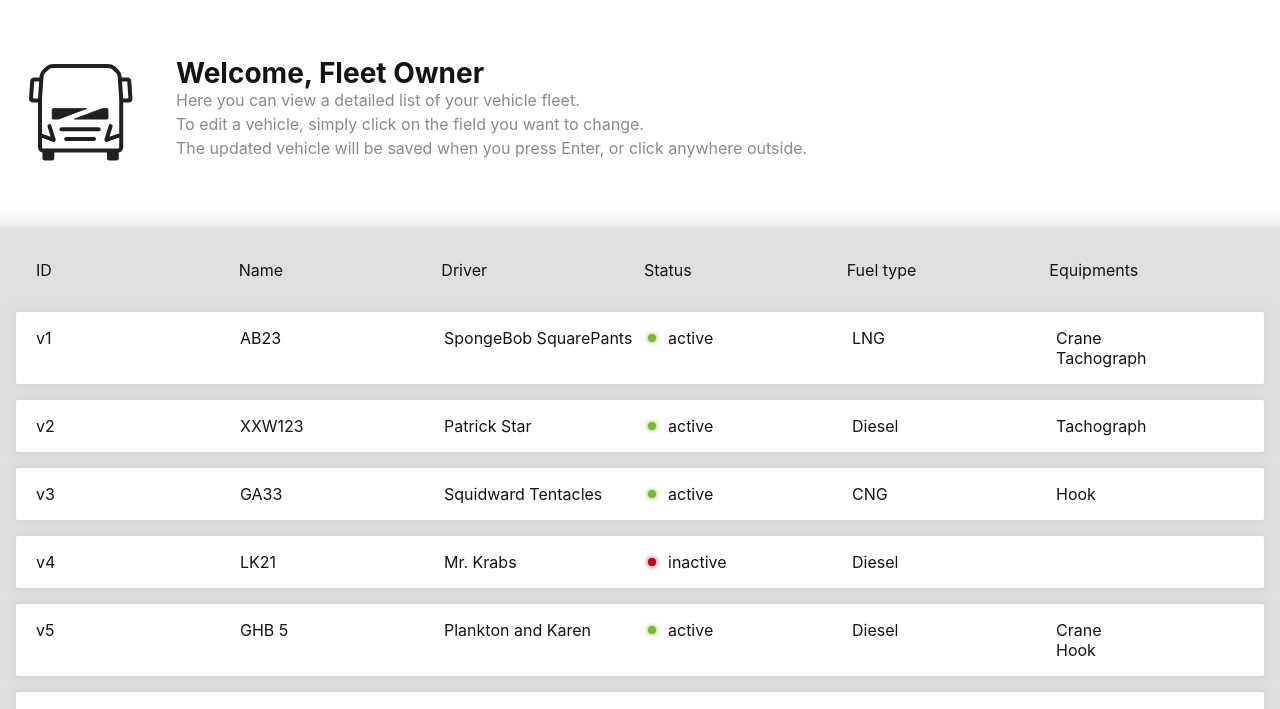
Scenario: Page interactivity works as expected › saves the input value on pressing enter
Click the text "AB23". click: (261, 338)
box: [240,328,281,348]
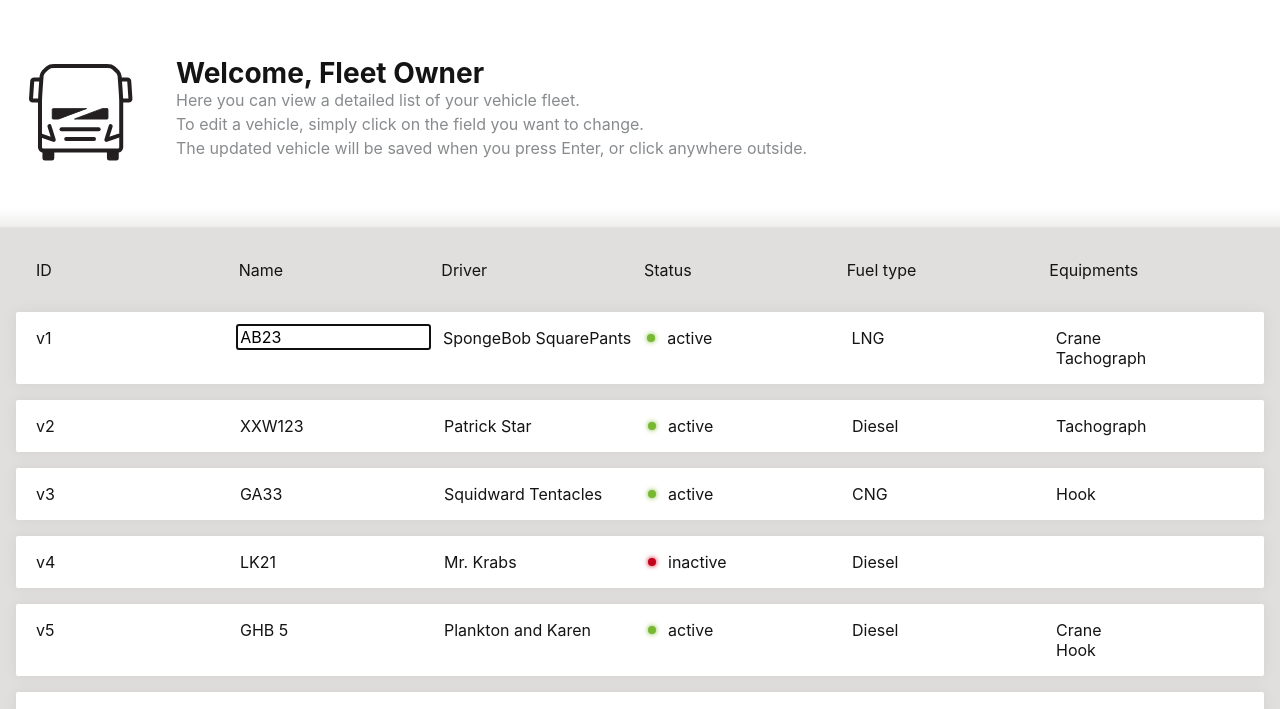
Result: the field with test id "VehicleTableCell-input" holds "AB23"
Replace the text in the field with test id "VehicleTableCell-input" with "YYY333". click: (334, 337)
box: [236,324,431,350]
Then press Enter
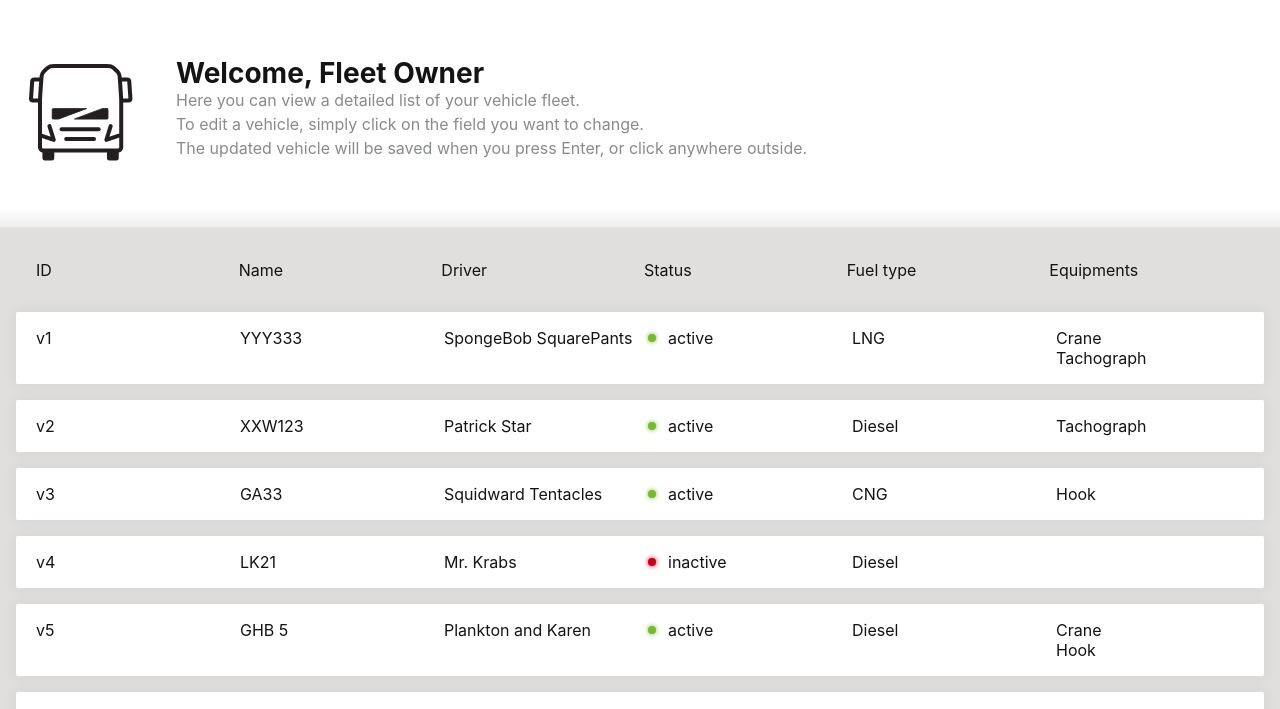
Result: the text "YYY333" is shown at [240,328,302,348]
